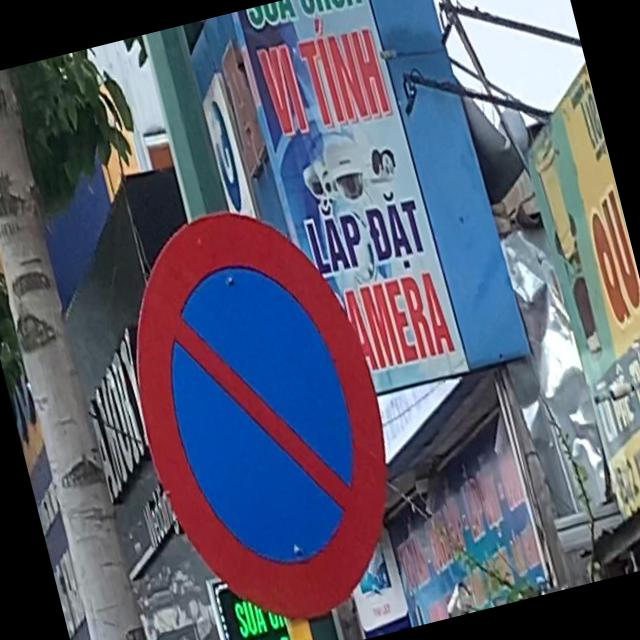P-131a: (97, 185, 425, 640)
